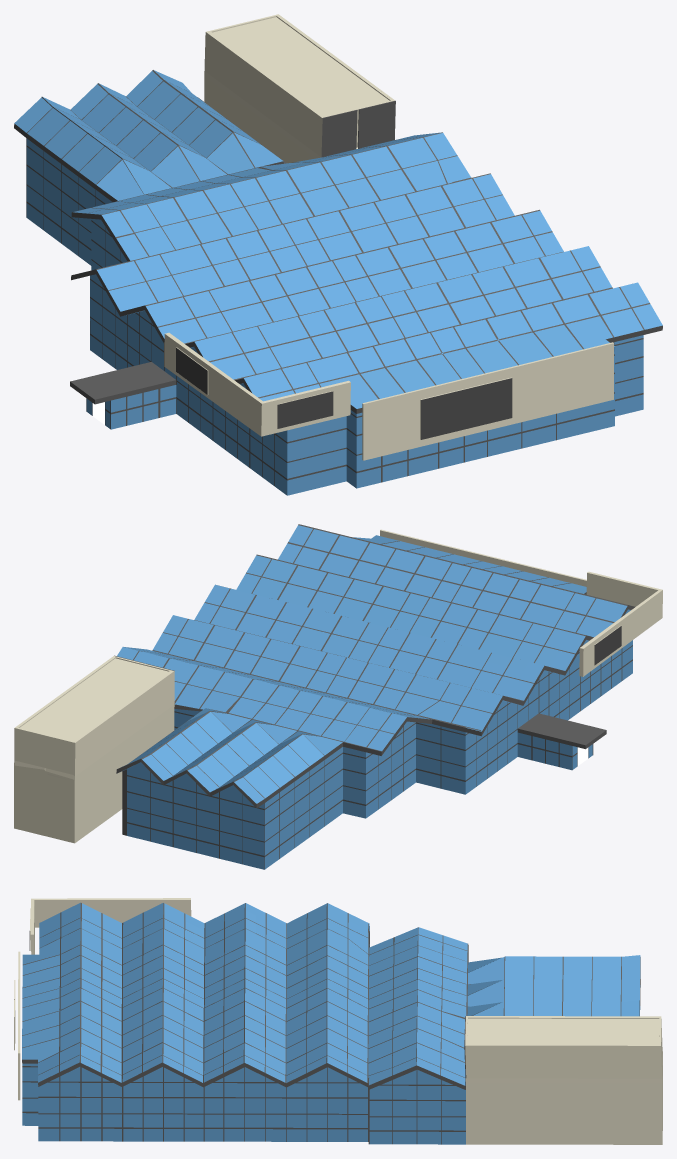
File: bijstox.glb
3 renders of one model, top to bottom at view 1: azimuth 30°, elevation 25°; view 2: azimuth 150°, elevation 25°; view 3: azimuth 270°, elevation 25°, orthographic. The views are drawn at different scales.
Visible parts, largest first — view 1: 279816862; view 2: 279816862; view 3: 279816862.
Part boxes in pixels (x1,y1,x2,y2): 279816862: [14, 14, 662, 495]; 279816862: [14, 524, 662, 869]; 279816862: [14, 898, 662, 1144].
Size of the model in its own units: 463 by 114 by 676.
